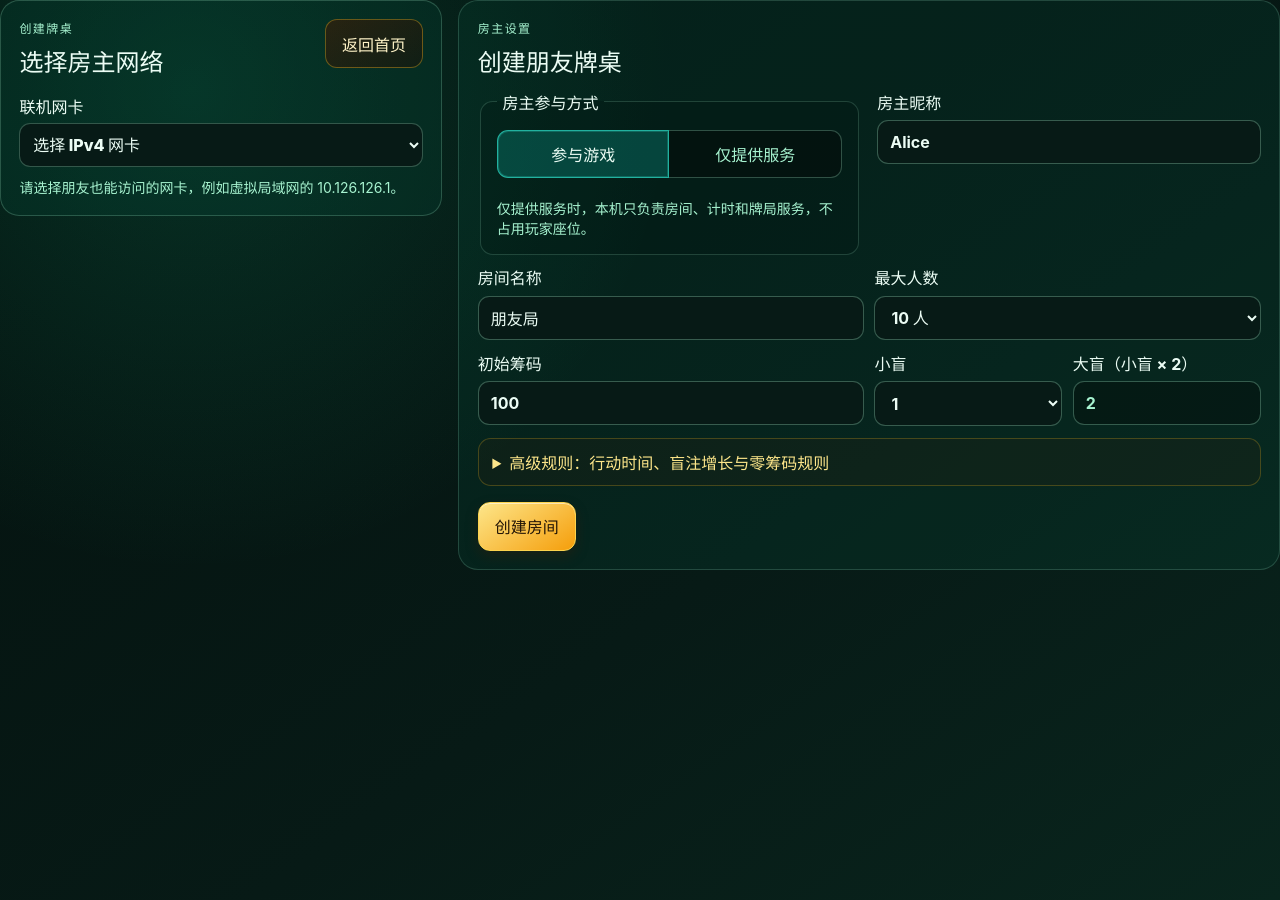
Test case: DesktopRoomSetup › explains that another local game process has occupied the host port
The image size is (1280, 900).
Select "Virtual LAN · 10.126.126.1" in the dropdown labelled "联机网卡" at (221, 145), box [19,123,423,167]
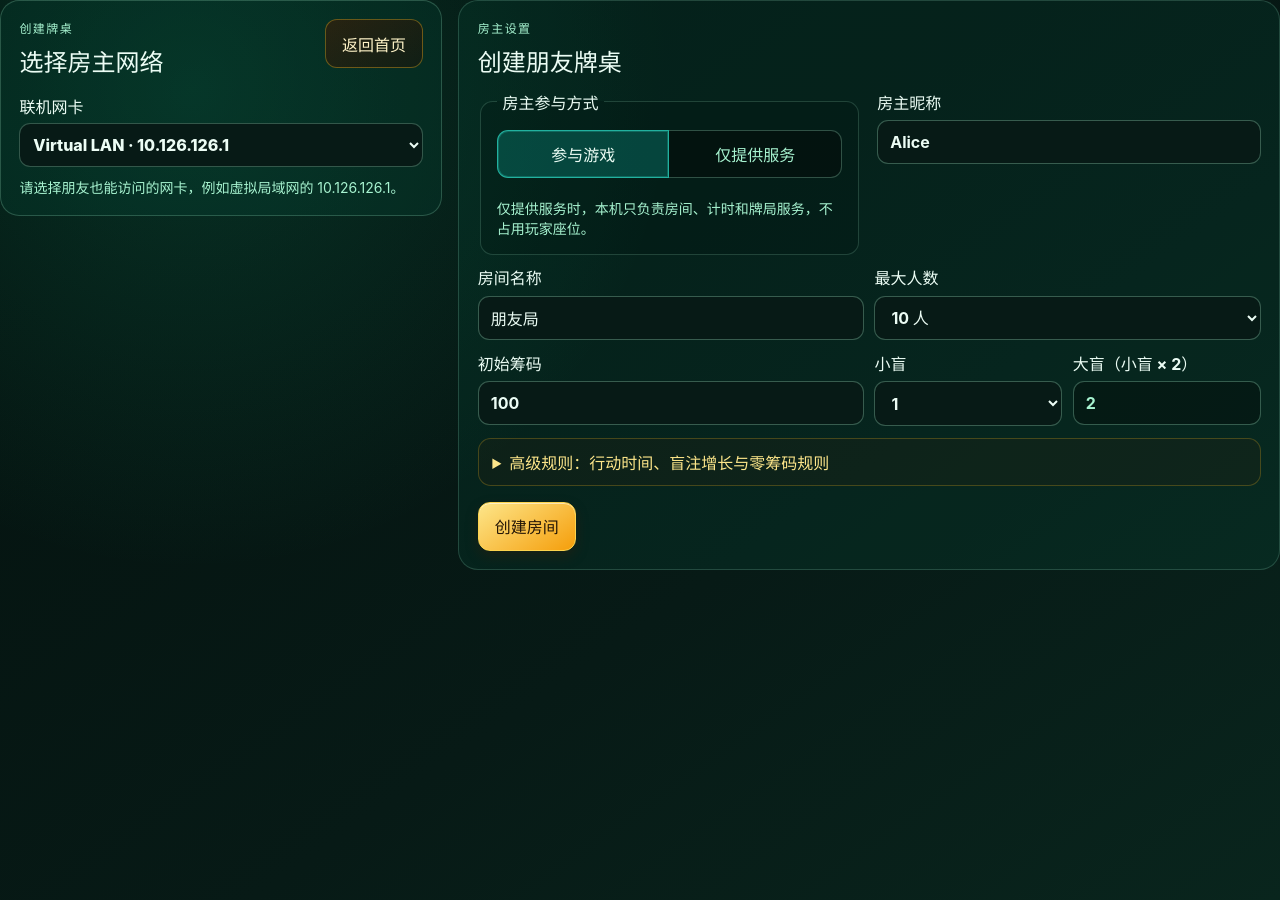
Click the button "创建房间" at (527, 526), box [478,502,576,551]
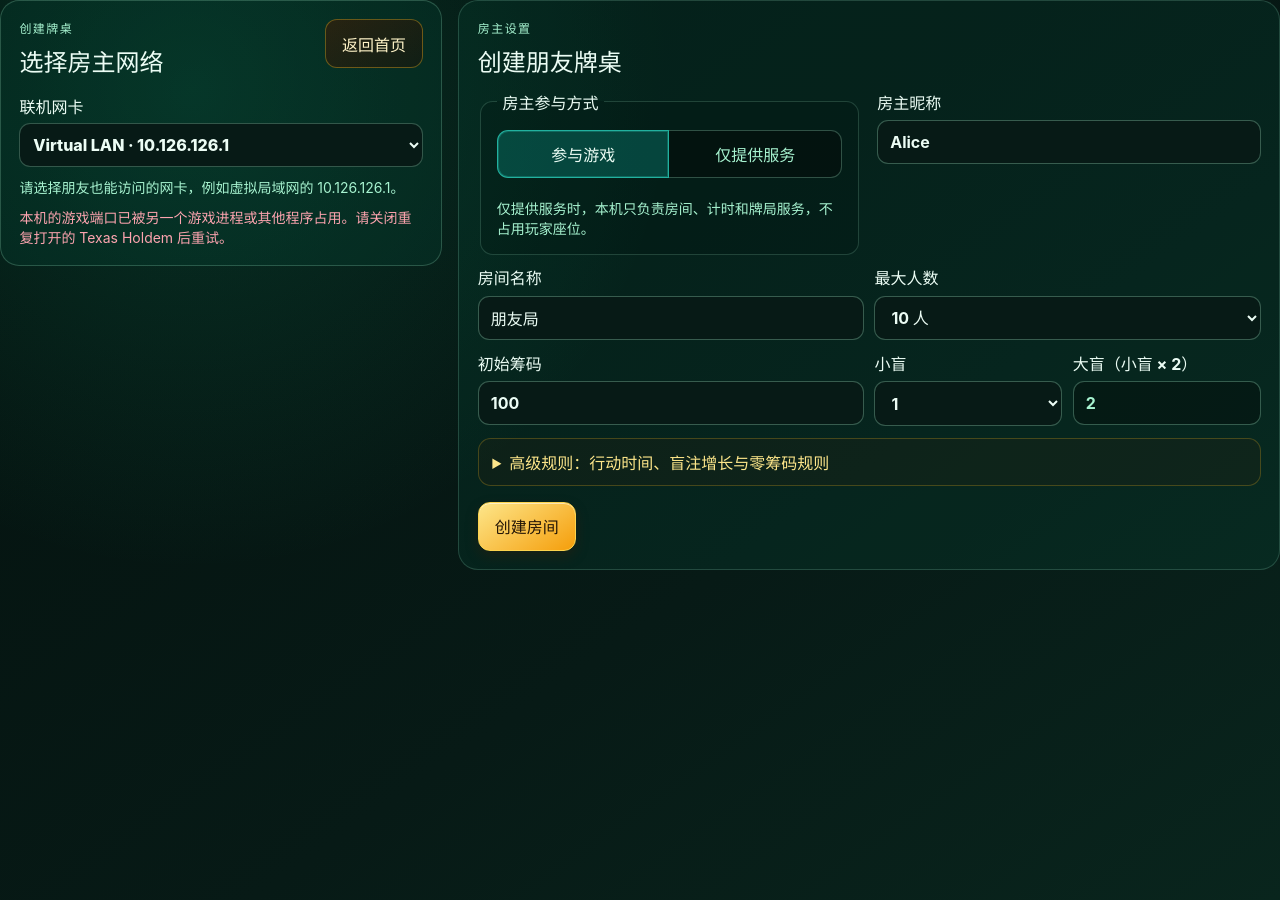
Result: the text "本机的游戏端口已被另一个游戏进程或其他程序占用。请关闭重复打开的 Texas Holdem 后重试。" is shown at [19,207,423,247]
